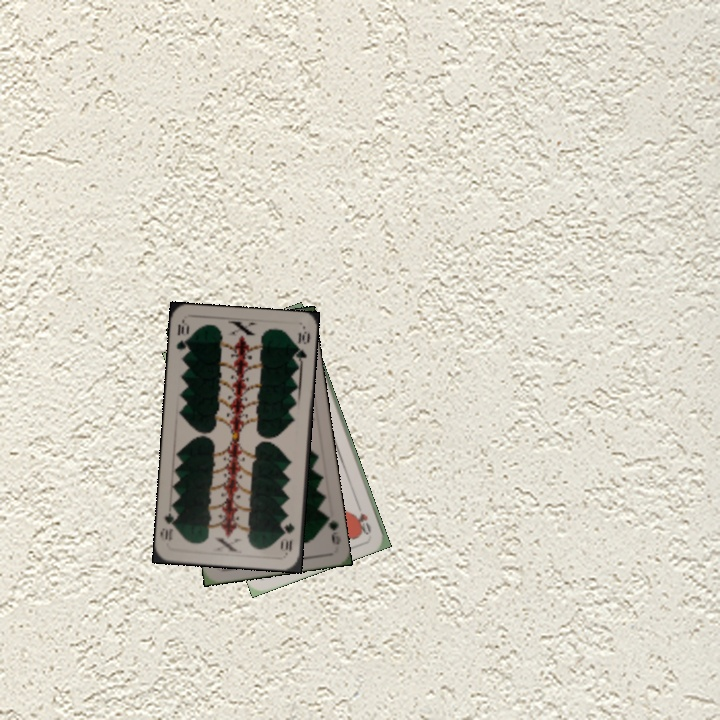G10: (172, 318, 192, 359), (278, 518, 297, 554)
G9: (320, 510, 344, 547)
HO: (355, 509, 373, 537)
